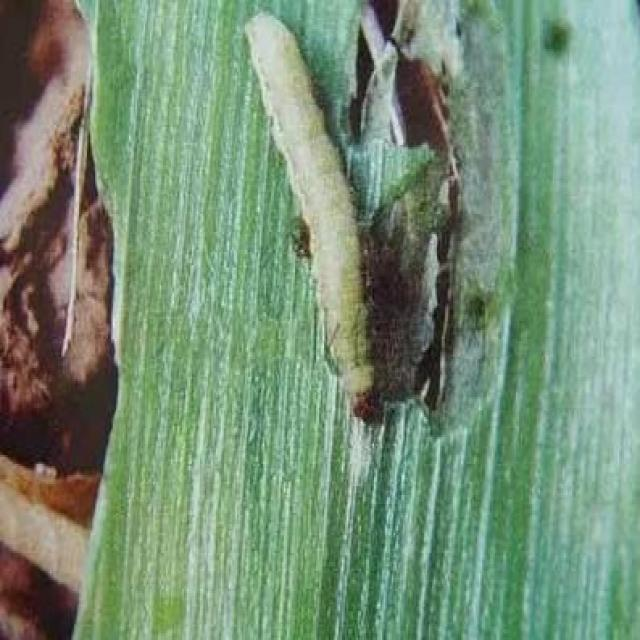BeetArmyWorm-Larva-: (242, 10, 384, 420)
